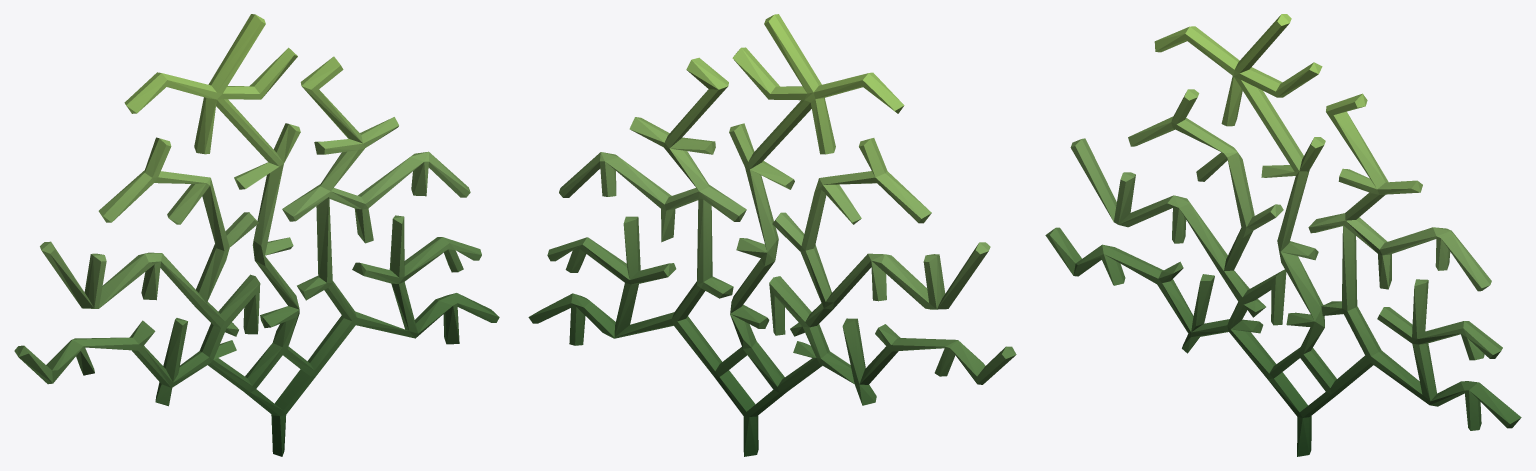
Rendered from SM_Coral_1.fbx.
3 renders of one model, left to right at view 1: azimuth 30°, elevation 25°; view 2: azimuth 150°, elevation 25°; view 3: azimuth 330°, elevation 25°, orthographic. The views are drawn at different scales.
Parts seen in each view (by area): view 1: Coral_1; view 2: Coral_1; view 3: Coral_1.
Part boxes in pixels (x1=…): Coral_1: x1=14, y1=14, x2=499, y2=456; Coral_1: x1=528, y1=14, x2=1016, y2=456; Coral_1: x1=1045, y1=14, x2=1521, y2=456.
Bounding box in the file's own units: 160 × 141 × 6.59.
